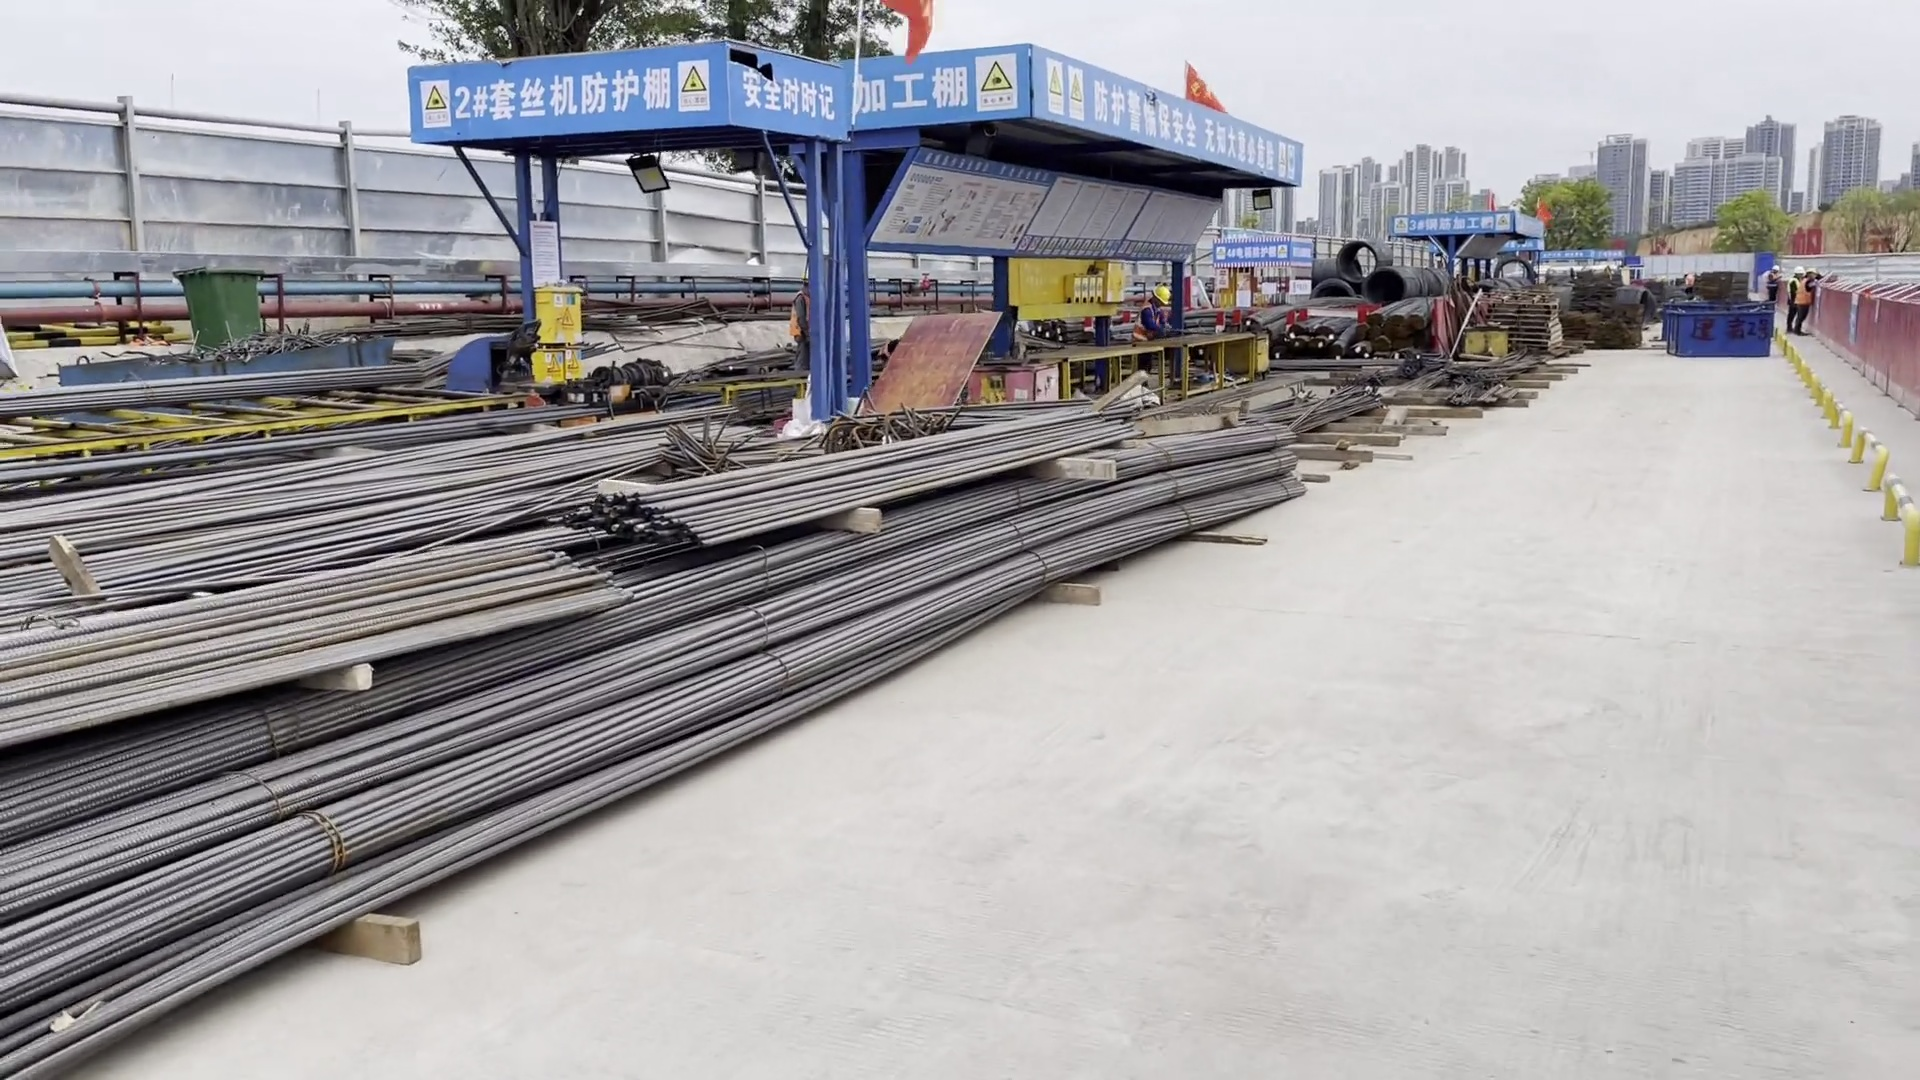ebox: (529, 278, 591, 397), (1096, 256, 1128, 309)
fence: (1812, 283, 1920, 421)
helmet: (1153, 287, 1168, 303), (1806, 268, 1817, 276), (1795, 267, 1803, 274), (1771, 266, 1780, 272)
hopper: (1662, 302, 1777, 360)
person: (784, 278, 812, 361), (1137, 286, 1175, 339), (1795, 268, 1820, 335), (1783, 266, 1804, 332), (1766, 265, 1780, 304)
rebar: (1, 412, 1300, 1078), (1, 538, 589, 731), (592, 420, 1114, 557), (1, 350, 427, 418), (1233, 383, 1384, 449), (1242, 294, 1363, 328), (1321, 329, 1355, 358), (1317, 316, 1352, 339), (1365, 329, 1390, 351), (1346, 338, 1372, 360), (1407, 312, 1432, 333), (1383, 311, 1405, 334), (1310, 339, 1331, 359), (1292, 337, 1314, 356), (1366, 308, 1383, 327)
slogan: (1094, 82, 1307, 180), (736, 71, 840, 127)
vest: (788, 294, 810, 339), (1139, 305, 1166, 334), (1797, 278, 1813, 305), (1786, 278, 1798, 302), (1767, 272, 1779, 288)
